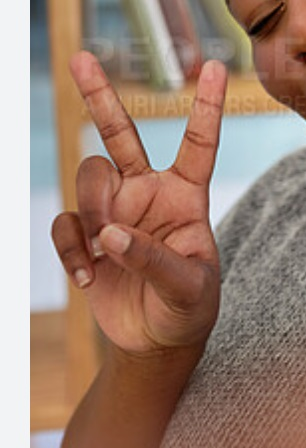peace: (52, 49, 226, 353)
